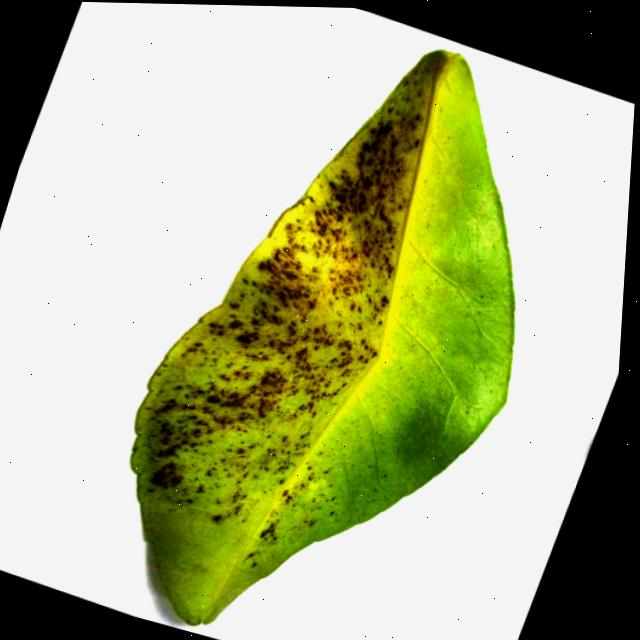melanose: (131, 49, 514, 623)
